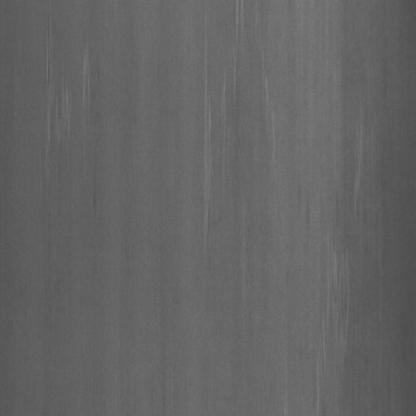silk_spot: (189, 58, 259, 268), (291, 242, 364, 368)
